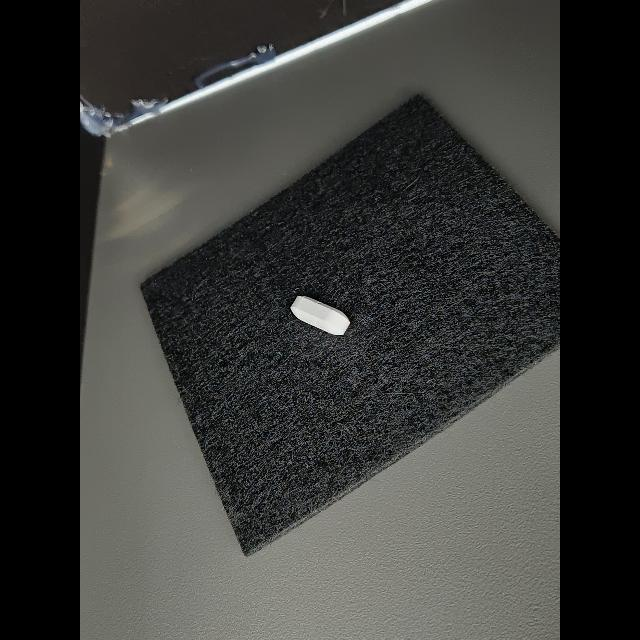Intact Pill: (290, 296, 350, 335)
